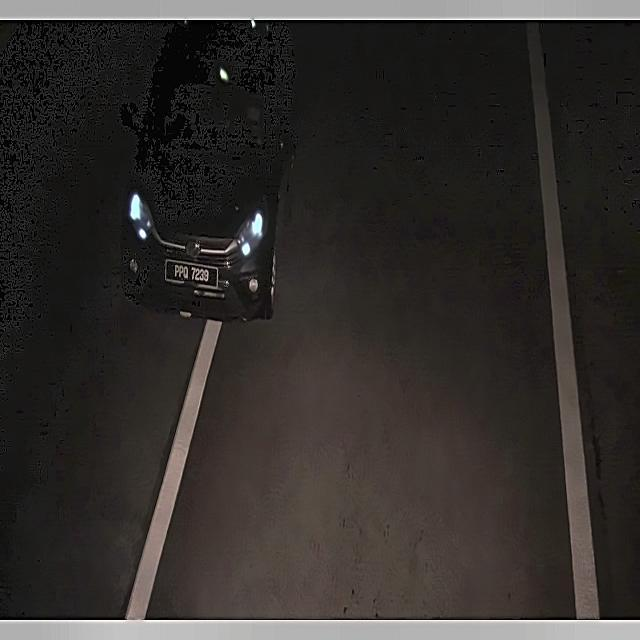car: (164, 261, 217, 292)
